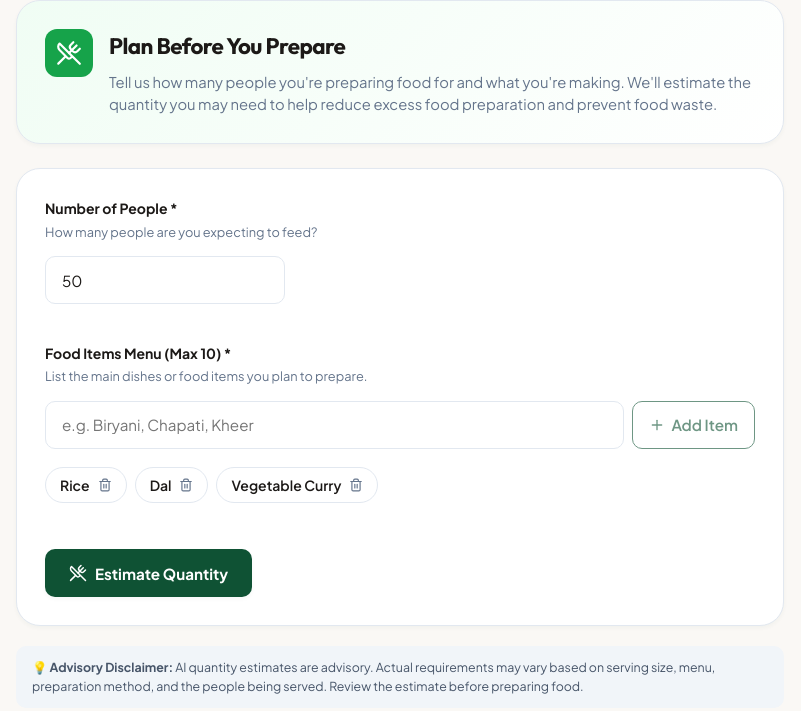
FoodQuantityPlanner Component › 7. Remove food item removes a chip but maintains minimum 1
The image size is (801, 711).
Check: the text "Rice" is shown, box x1=45 y1=467 x2=127 y2=503
What coordinates should you click on to do the following:
click the button named "Remove Rice"
I would click on:
 (105, 485)
Its box is x1=98 y1=478 x2=112 y2=492.
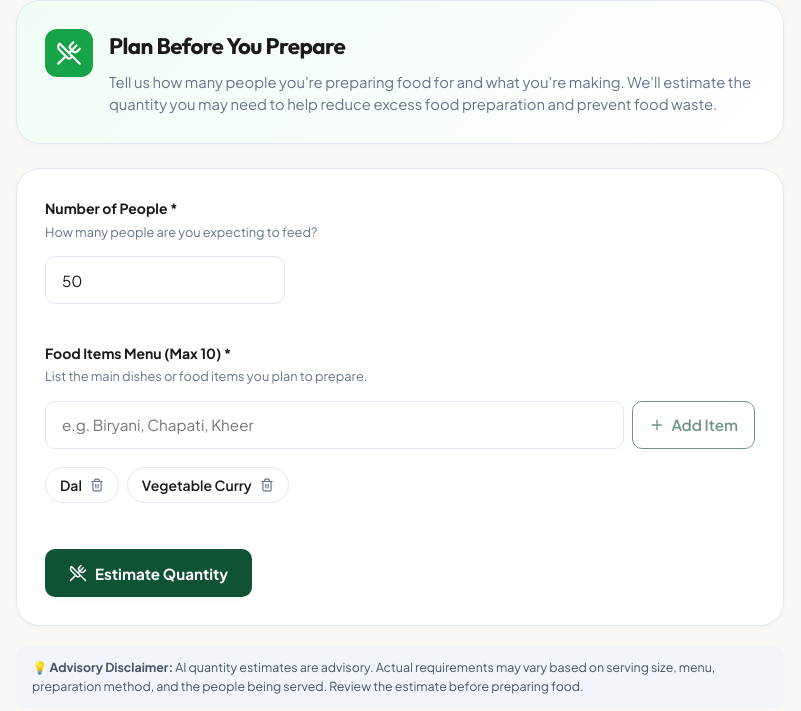
Check: the text "Rice" is gone
Check: the text "Dal" is shown, box x1=45 y1=467 x2=119 y2=503
